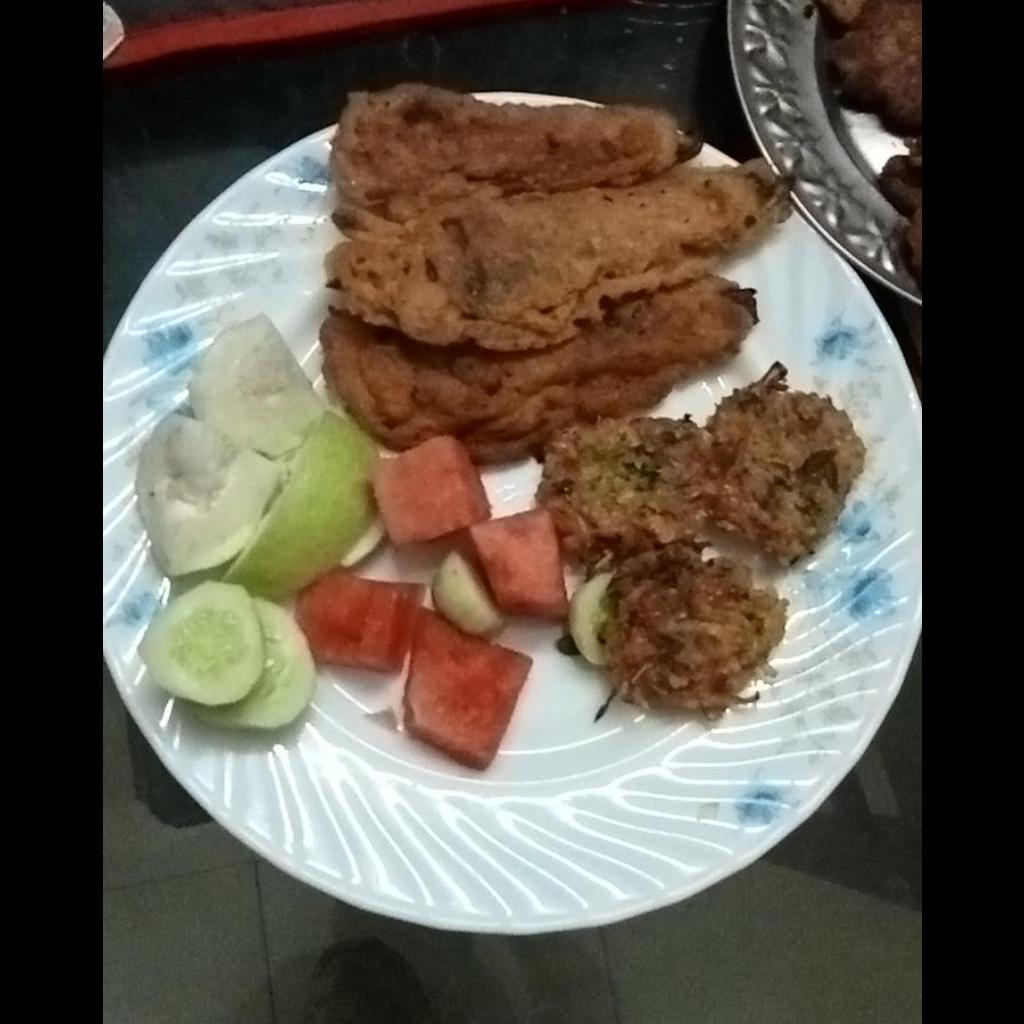beguni: (323, 95, 791, 453)
cucumber: (140, 583, 318, 734)
guava: (127, 311, 388, 590)
piyaju: (529, 370, 865, 710)
watermelon: (300, 443, 566, 772)
